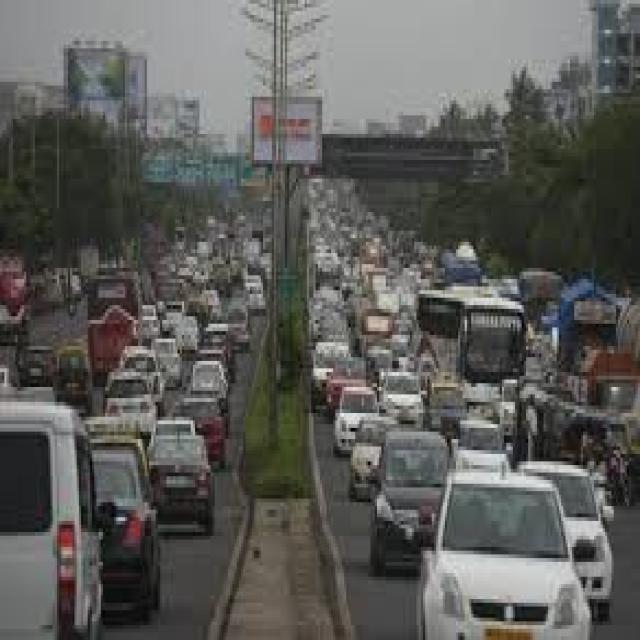vehicle: (0, 392, 136, 640), (445, 475, 610, 640), (357, 413, 452, 565), (96, 440, 168, 633), (426, 283, 527, 405), (151, 416, 214, 532), (85, 255, 142, 350), (327, 384, 378, 444), (190, 341, 236, 406)
